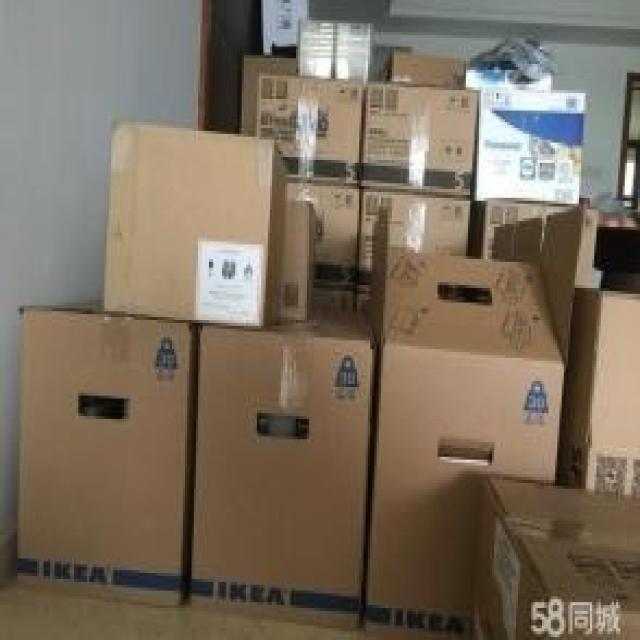box: (366, 206, 586, 635), (188, 308, 373, 629), (18, 297, 196, 607), (102, 120, 289, 331), (474, 481, 637, 635), (559, 286, 638, 495), (472, 89, 585, 204), (361, 85, 475, 197), (359, 193, 471, 293), (257, 78, 362, 184), (287, 179, 360, 289), (468, 200, 579, 261), (239, 54, 298, 137), (281, 201, 318, 319), (466, 61, 554, 93), (386, 55, 466, 89), (577, 206, 600, 285)
